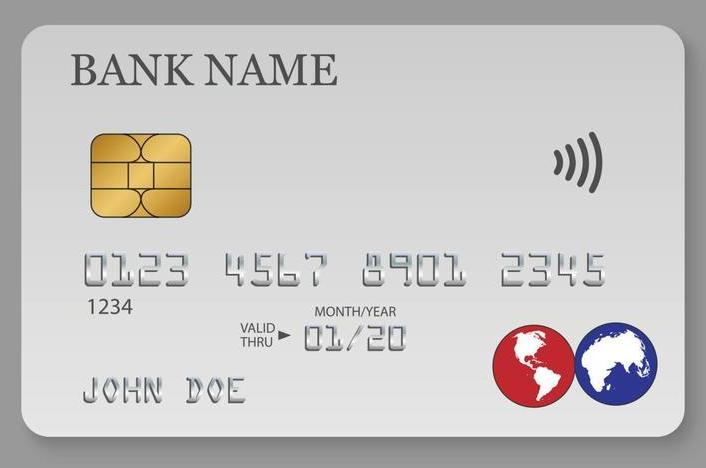payment_card: (22, 22, 687, 440)
